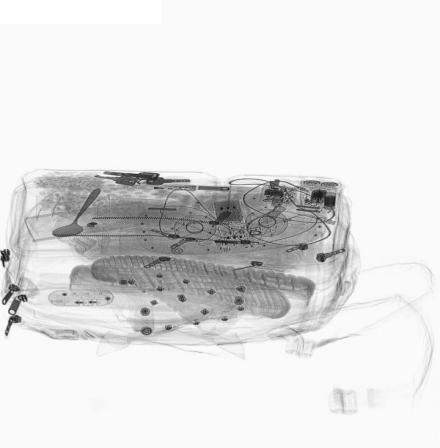Lighter: (150, 183, 198, 192)
